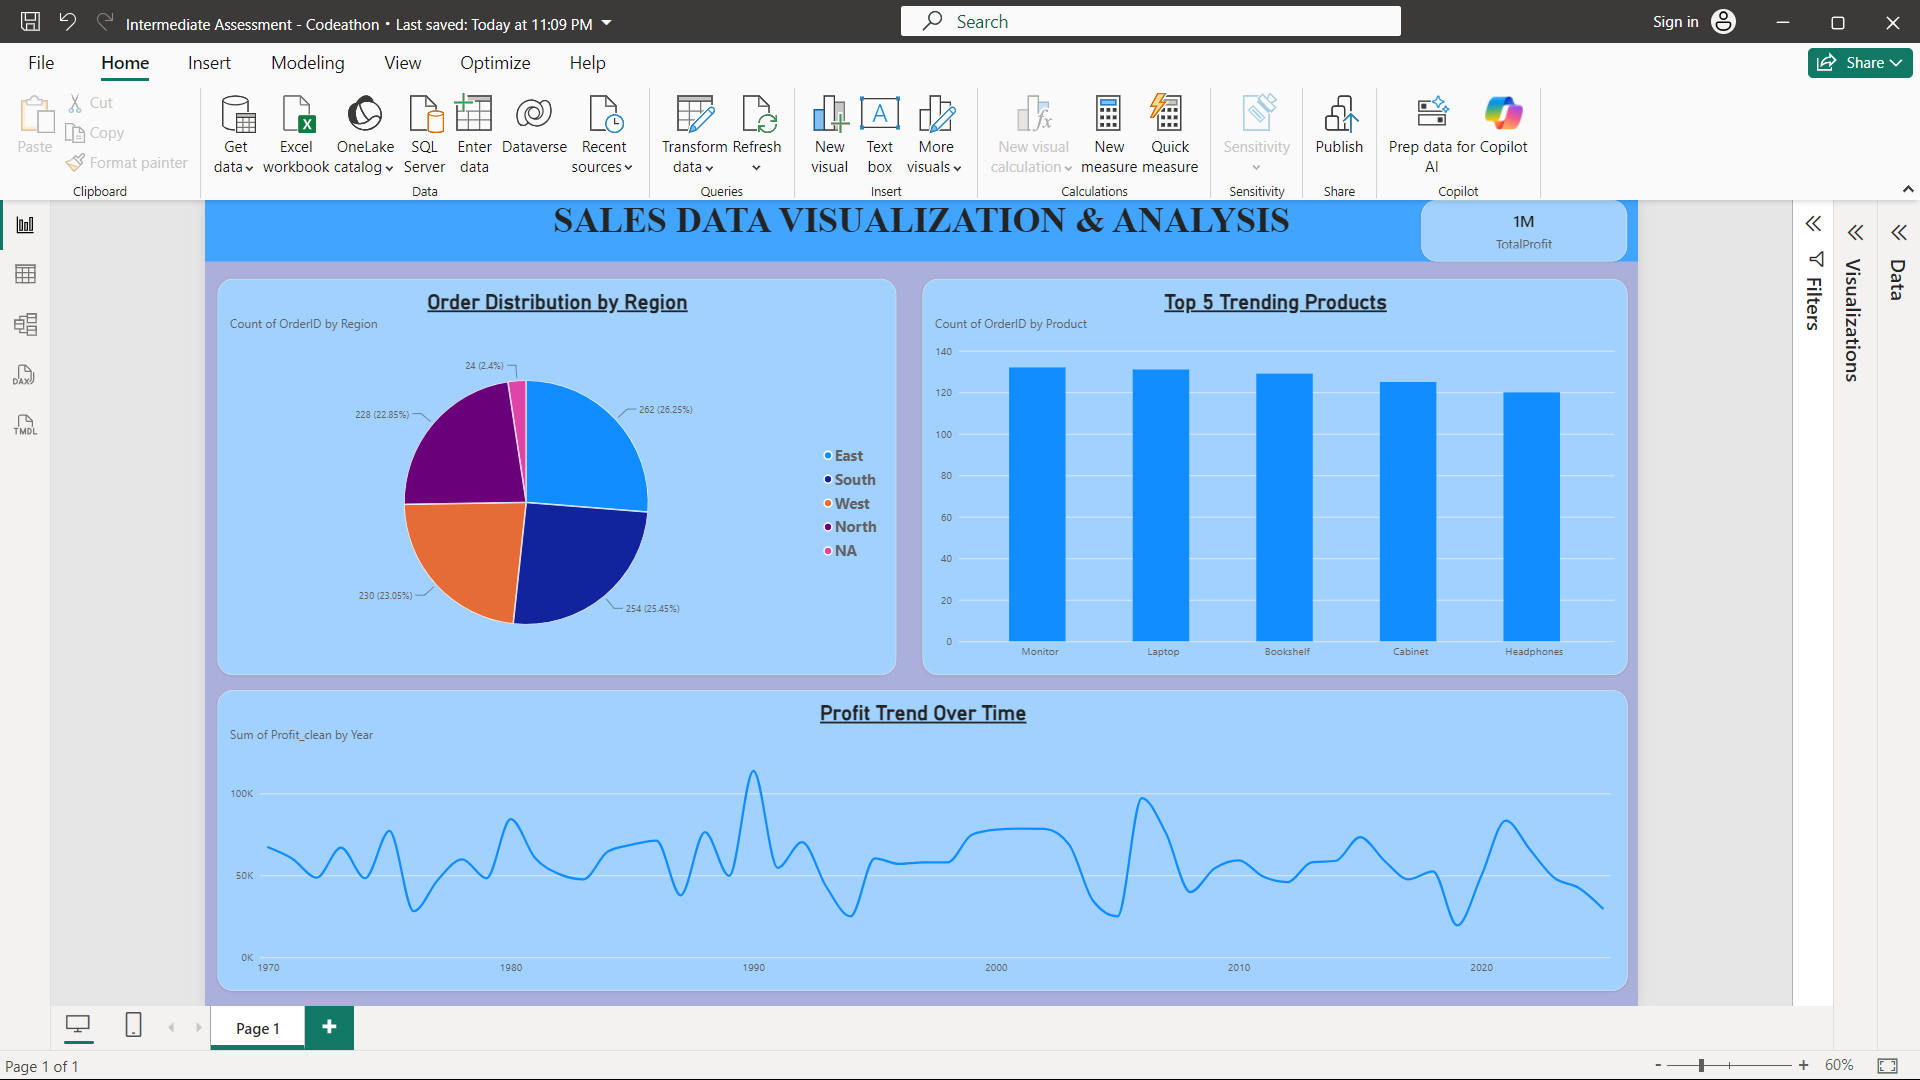

The dashboard page shown, as its layout file describes it:
{"tool":"powerbi","page":{"name":"Page 1","canvas":[1920,1080],"ordinal":0},"visuals":[{"type":"pieChart","title":"Order Distribution by Region","fields":{"Category":["SalesData_1000Rows_WithIssues_copy.Region"],"Y":["CountNonNull(SalesData_1000Rows_WithIssues_copy.OrderID)"]},"box":[16.5,105,909.8,531],"z":0},{"type":"textbox","box":[0,0,1920.4,82.3],"z":1000},{"type":"clusteredColumnChart","title":"Top 5 Trending Products","fields":{"Category":["SalesData_1000Rows_WithIssues_copy.Product"],"Y":["CountNonNull(SalesData_1000Rows_WithIssues_copy.OrderID)"]},"box":[961.2,105,944.8,531],"z":2000},{"type":"lineChart","title":"Profit Trend Over Time","fields":{"Category":["SalesData_1000Rows_WithIssues_copy.OrderDate.Variation.Date Hierarchy.Year","SalesData_1000Rows_WithIssues_copy.OrderDate.Variation.Date Hierarchy.Quarter","SalesData_1000Rows_WithIssues_copy.OrderDate.Variation.Date Hierarchy.Month","SalesData_1000Rows_WithIssues_copy.OrderDate.Variation.Date Hierarchy.Day"],"Y":["Sum(SalesData_1000Rows_WithIssues_copy.Profit_clean)"]},"box":[16.5,656.6,1889.5,403.4],"z":3000},{"type":"card","title":"Total Profit","fields":{"Values":["SalesData_1000Rows_WithIssues_copy.TotalProfit"]},"box":[1630.2,0,275.8,82.3],"z":3001}]}

Visuals, with their boxes on the page's 1920x1080 design canvas (x1, y1, x2, y2). These are canvas units, not pixel positions in the 1920x1080 screenshot, which may show the page scaled, cropped or inside an application window:
"Order Distribution by Region" pieChart: 16, 105, 926, 636
textbox: 0, 0, 1920, 82
"Top 5 Trending Products" clusteredColumnChart: 961, 105, 1906, 636
"Profit Trend Over Time" lineChart: 16, 657, 1906, 1060
"Total Profit" card: 1630, 0, 1906, 82
